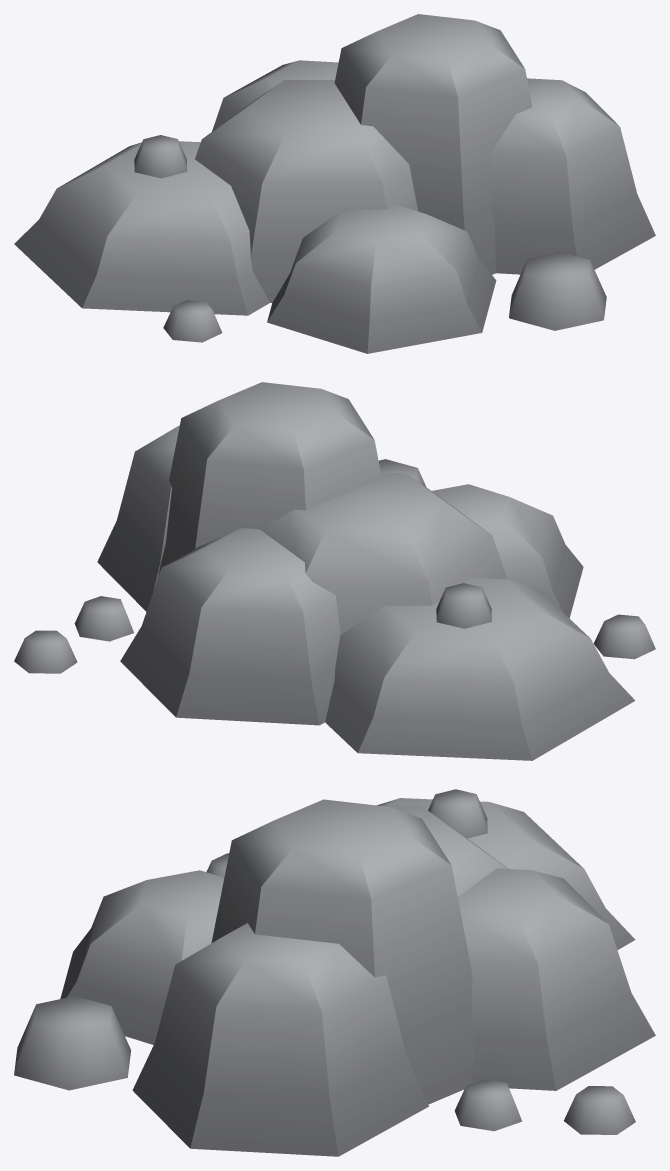
The model's file is rocks.glb.
3 renders of one model, top to bottom at view 1: azimuth 30°, elevation 25°; view 2: azimuth 150°, elevation 25°; view 3: azimuth 270°, elevation 25°, orthographic. The views are drawn at different scales.
Parts seen in each view (by area): view 1: rocks; view 2: rocks; view 3: rocks.
Boxes of the visible parts, x1=… form: rocks: x1=14, y1=14, x2=655, y2=353; rocks: x1=14, y1=382, x2=655, y2=760; rocks: x1=14, y1=789, x2=655, y2=1156.
Bounding box in the file's own units: 1.61 × 0.5662 × 1.45.
1 material, 1 textured.
